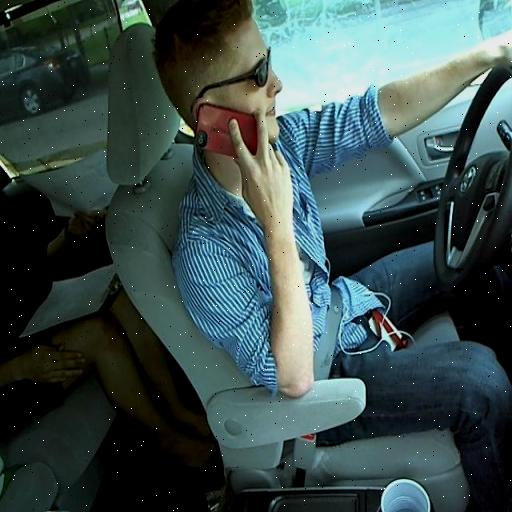talking_phone: (156, 93, 512, 384)
